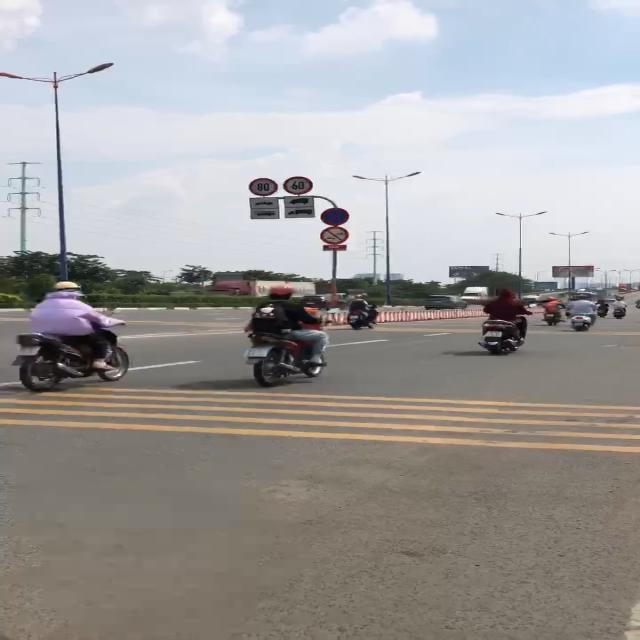Bien bao cam dung xe va do xe: (319, 206, 352, 226)
Bien bao toc do toi da cho phep: (280, 176, 318, 196), (248, 178, 280, 197)
